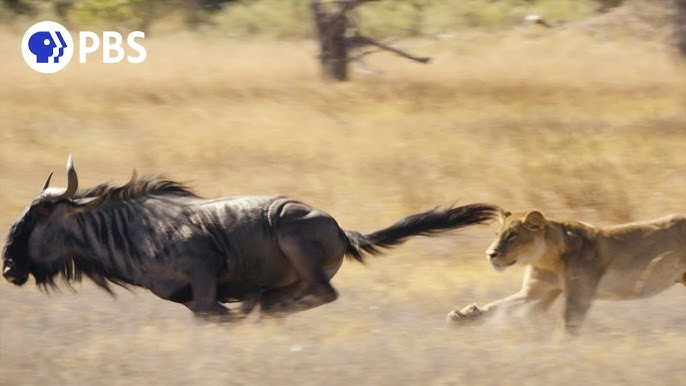buffalo: (0, 148, 442, 328)
lion: (465, 190, 686, 341)
